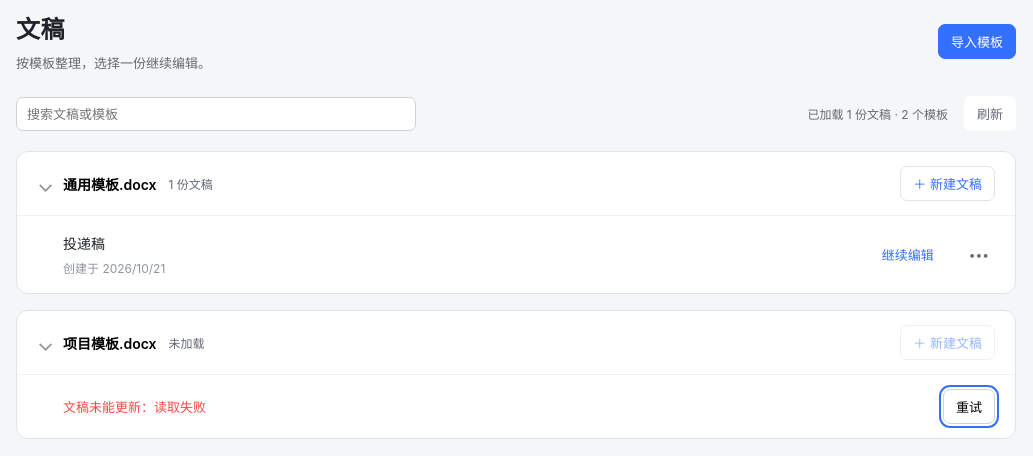
Test: 文稿分组列表 › 局部失败可单组重试，不能显示为空模板或隐藏其他模板的结果
The image size is (1033, 456).
Expected: the number of elements with class "template-group" is 2, [16, 151, 1016, 294]; [16, 310, 1016, 439]
Expected: the text "还没有文稿" is not shown
Click the button "重试": (969,406) [943, 389, 995, 424]
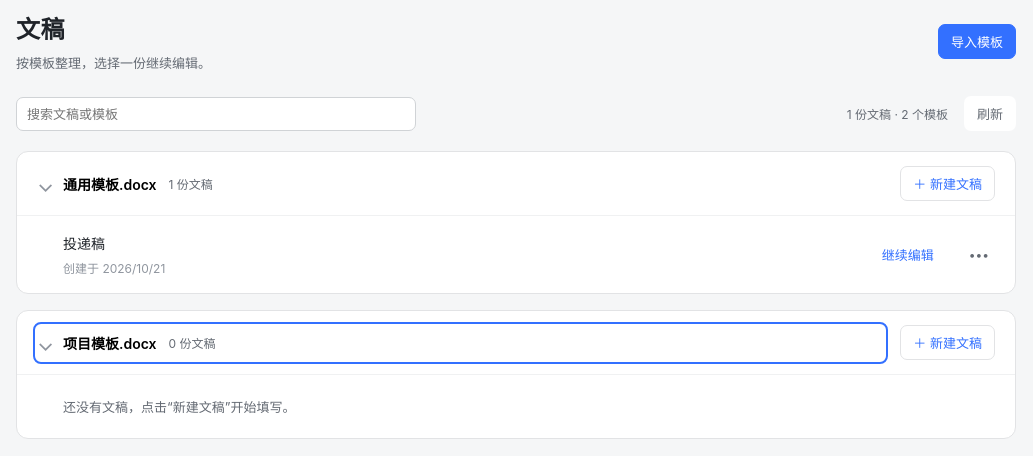
Now the text "还没有文稿" is shown, box [63, 399, 296, 415]
